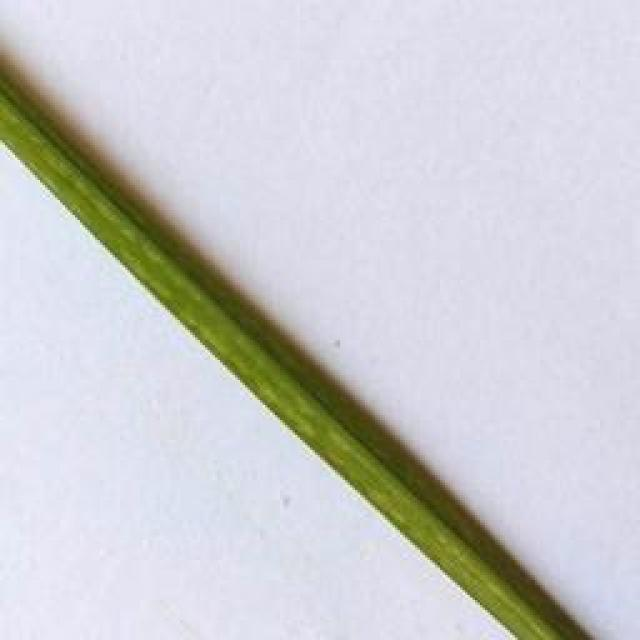Healthy-Plant: (0, 75, 575, 640)
